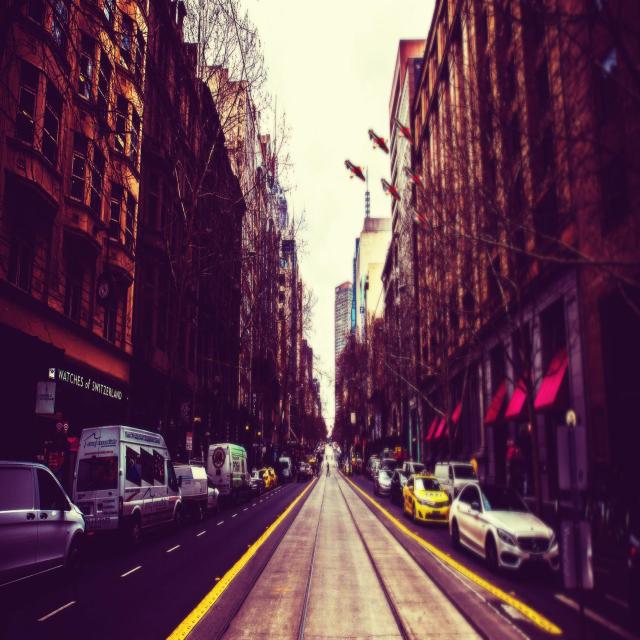airplane: (367, 123, 389, 157), (343, 153, 367, 182), (394, 111, 413, 145), (405, 164, 426, 193), (409, 205, 431, 232), (381, 178, 402, 202)
